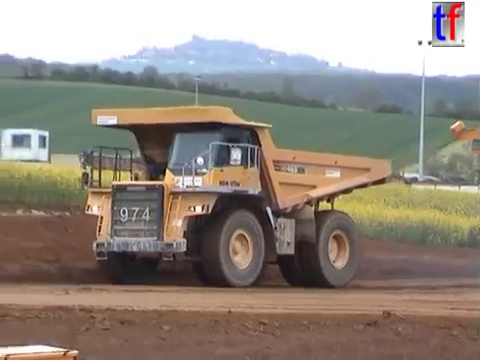crane: (448, 119, 480, 189)
truck: (77, 104, 393, 289)
